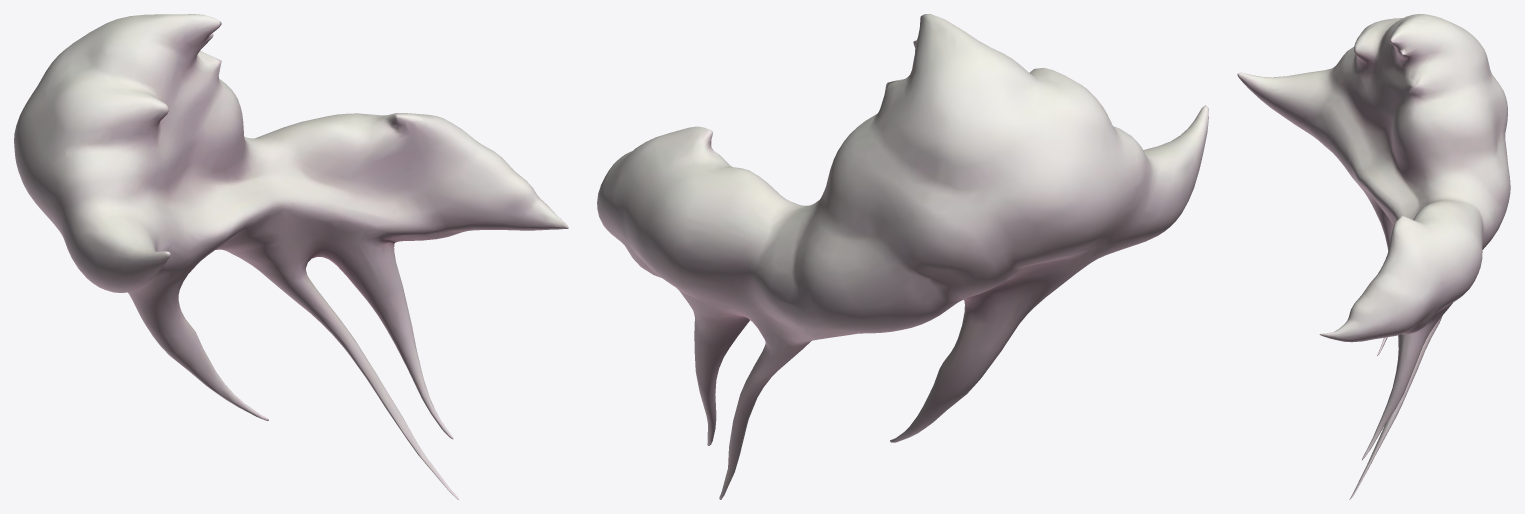
File: sky_cloud_01a.glb
3 renders of one model, left to right at view 1: azimuth 30°, elevation 25°; view 2: azimuth 150°, elevation 25°; view 3: azimuth 270°, elevation 25°, orthographic. The views are drawn at different scales.
Visible parts, largest first — view 1: cloud_01a; view 2: cloud_01a; view 3: cloud_01a.
Part boxes in pixels (x1=…): cloud_01a: x1=14, y1=14, x2=568, y2=499; cloud_01a: x1=597, y1=14, x2=1208, y2=499; cloud_01a: x1=1237, y1=14, x2=1510, y2=499.
Size of the model in its own units: 227 by 228 by 146.
1 material, 1 textured.
